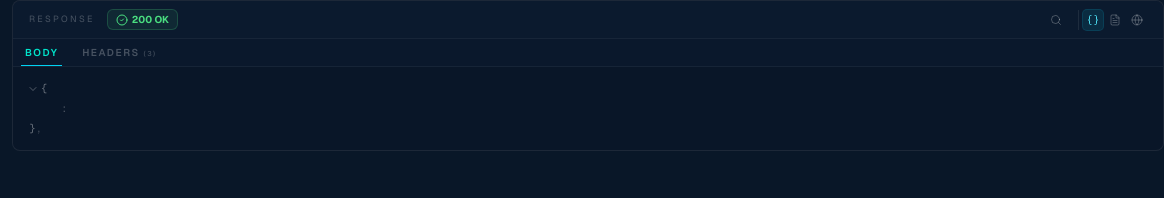
it: Response panel › headers tab › search filters header rows by name or value
Step 1. Click the button "headers(3)" → (120,52), box x1=70 y1=39 x2=169 y2=66
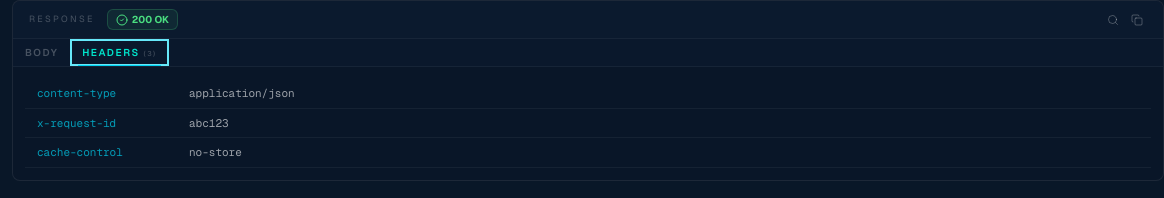
Step 2. Click the button titled "Search (⌘F)" → (1113,20), box x1=1103 y1=10 x2=1123 y2=30
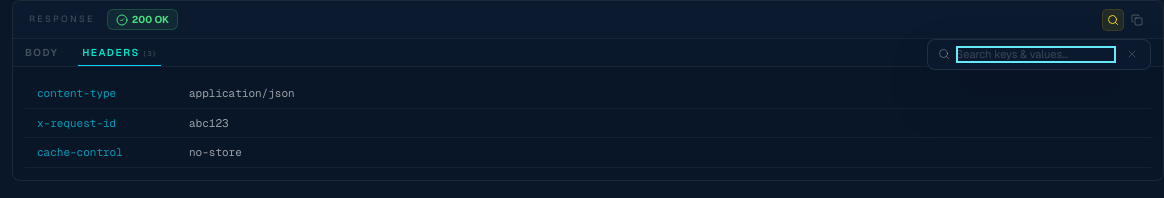
Step 3. Type "STORE" into the field with placeholder "Search keys & values…" → (1036,54), box x1=956 y1=46 x2=1116 y2=62
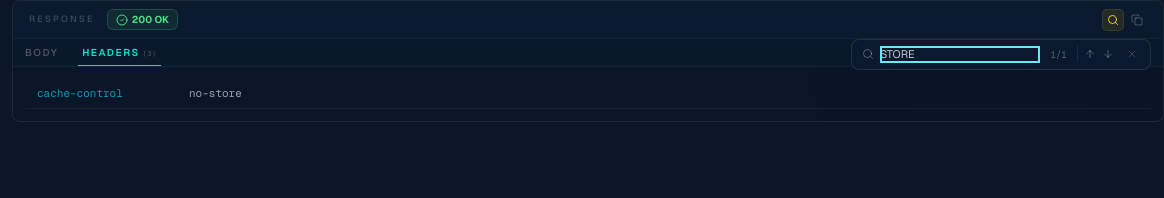
Now the text "cache-control" is shown, box x1=37 y1=86 x2=123 y2=100
Now the text "x-request-id" is gone
Now the text "1/1" is shown, box x1=1050 y1=48 x2=1067 y2=61
Step 4. Clear the field with placeholder "Search keys & values…" → (960,54), box x1=880 y1=46 x2=1040 y2=62
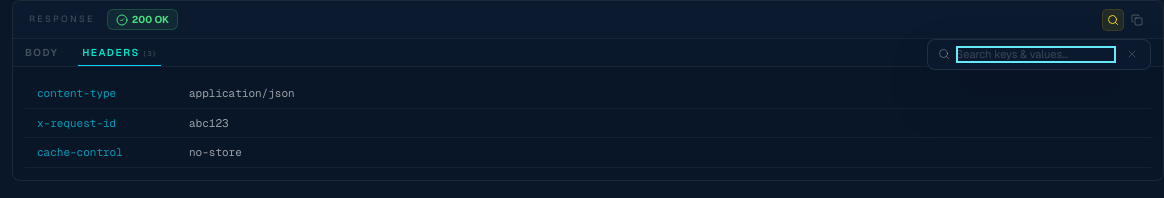
Step 5. Type "zzz" into the field with placeholder "Search keys & values…" → (1036,54), box x1=956 y1=46 x2=1116 y2=62
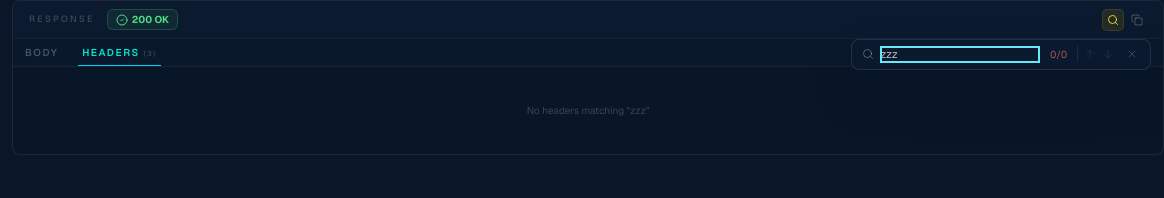
Now the text "No headers matching \"zzz\"" is shown, box x1=527 y1=104 x2=649 y2=117
Now the text "0/0" is shown, box x1=1050 y1=48 x2=1067 y2=61
